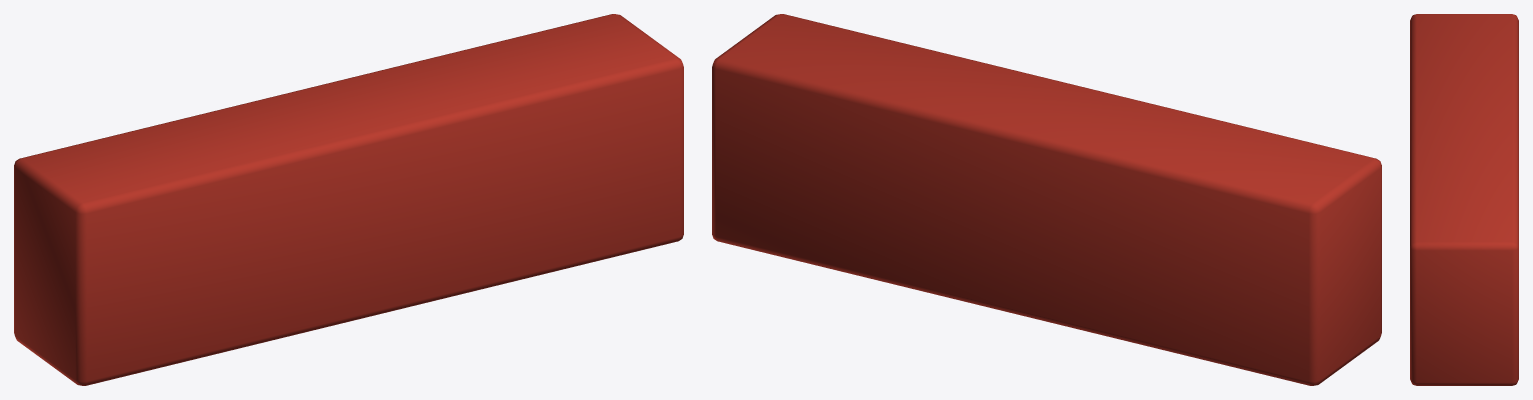
The model's file is RedWall.fbx.
3 views of the same model, side by side, from view 1: azimuth 30°, elevation 25°; view 2: azimuth 150°, elevation 25°; view 3: azimuth 270°, elevation 25° (orthographic). The views are drawn at different scales.
Visible parts, largest first — view 1: red_wall; view 2: red_wall; view 3: red_wall.
Boxes of the visible parts, x1,y1,x2,y2 form: red_wall: [14, 14, 683, 385]; red_wall: [712, 14, 1381, 385]; red_wall: [1410, 14, 1518, 385].
Size of the model in its own units: 10.76 by 3.1 by 2.12.
